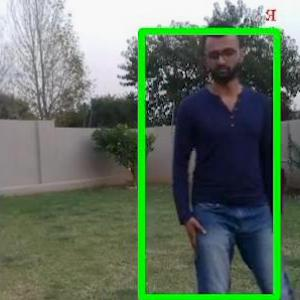follow: (176, 7, 276, 299)
